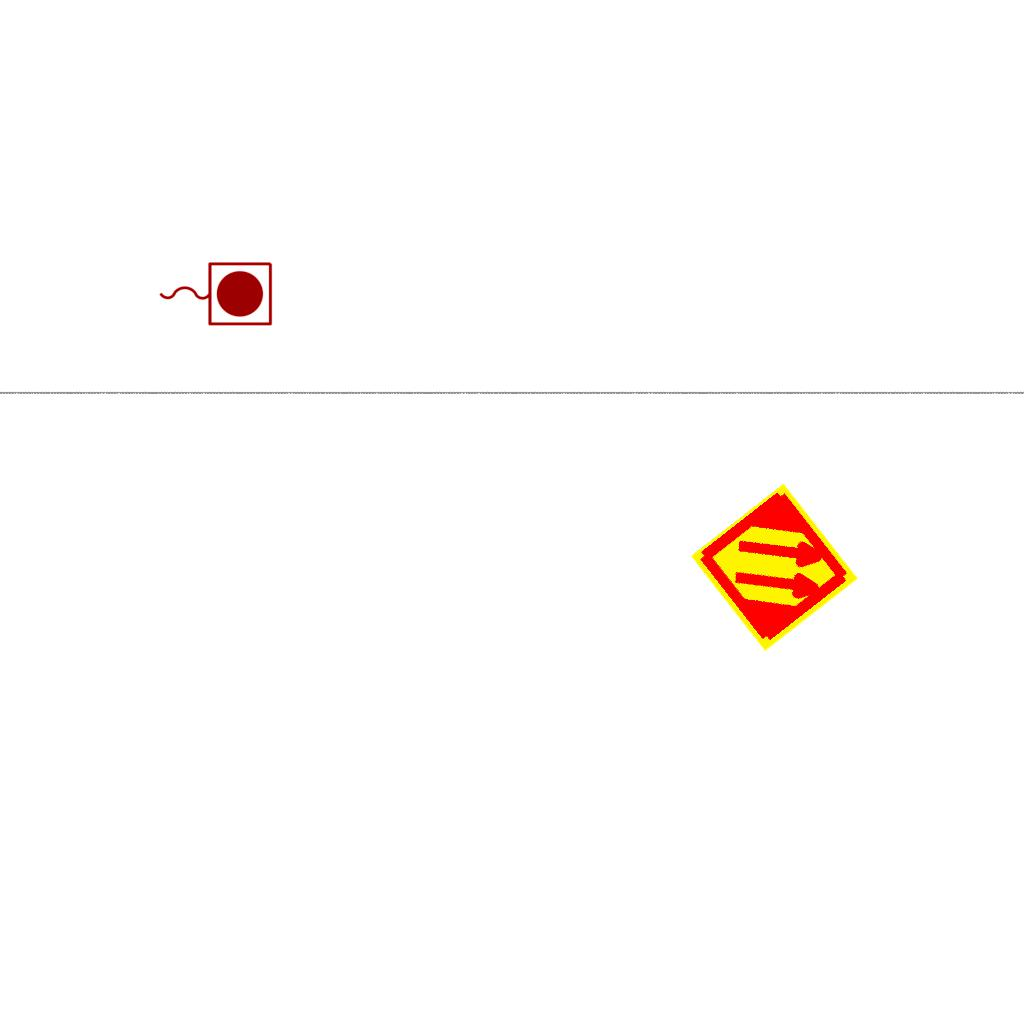ASR_Ansaugrauchmelder: (686, 479, 863, 656)
Zugtaster: (154, 257, 276, 329)
